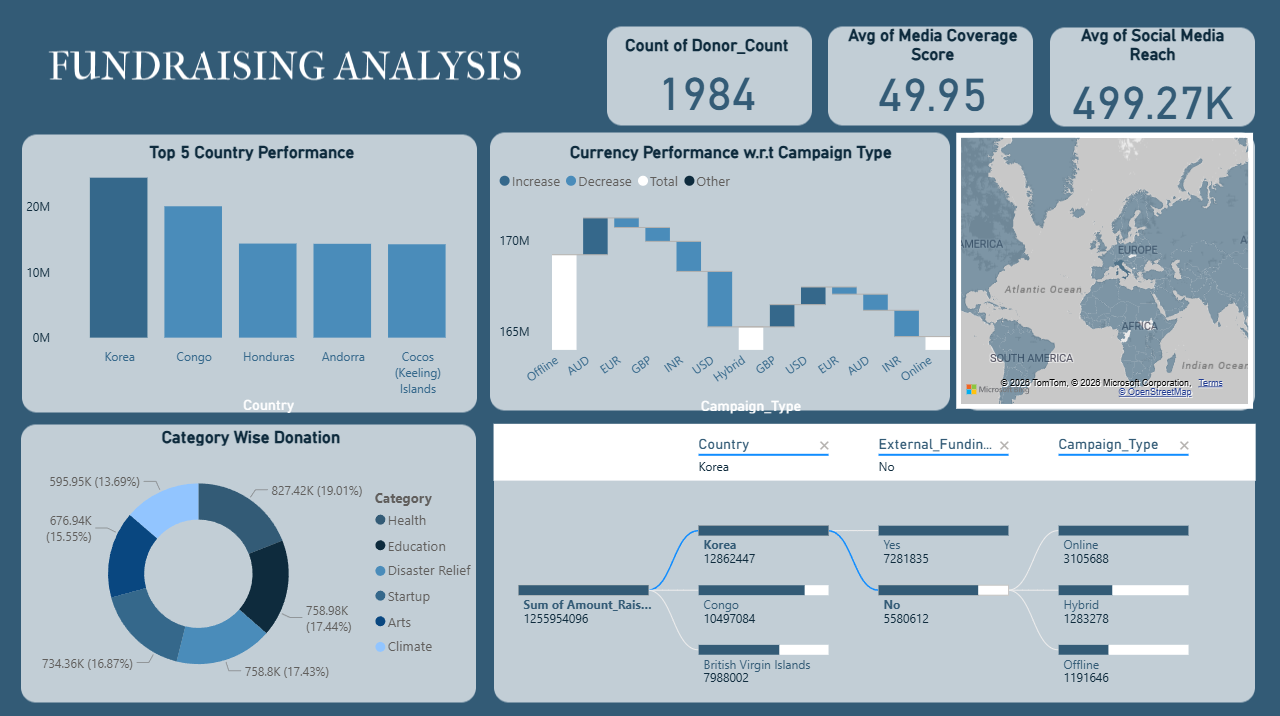

This screenshot's page, from the dashboard's own definition file:
{"tool":"powerbi","page":{"name":"FR DASHBOARD","canvas":[1280,720],"ordinal":0},"visuals":[{"type":"card","title":"Count of Donor_Count","fields":{"Values":["Count(Fund Raise Analysis.Donor_Count)"]},"box":[604.4,36.2,203.9,88.1],"z":0},{"type":"card","title":"Avg of Media Coverage Score","fields":{"Values":["Avg(Fund Raise Analysis.Media_Coverage_Score)"]},"box":[829.5,26.5,205.7,91.4],"z":1000},{"type":"card","title":"Avg of Social Media Reach","fields":{"Values":["Avg(Fund Raise Analysis.Social_Media_Reach)"]},"box":[1054.4,26.5,195.4,107.4],"z":2000},{"type":"filledMap","fields":{"Category":["Fund Raise Analysis.Country"]},"box":[956.7,133.9,296.8,276.3],"z":3000},{"type":"columnChart","title":"Top 5 Country Performance","fields":{"Category":["Fund Raise Analysis.Country"],"Y":["Sum(Fund Raise Analysis.Fundraising_Goal_USD)"]},"box":[21.4,142.9,461.4,277.1],"z":4000},{"type":"donutChart","title":"Category Wise Donation","fields":{"Category":["Fund Raise Analysis.Category"],"Y":["Sum(Fund Raise Analysis.Average_Donation_USD)"]},"box":[17.1,427.1,467.1,275.7],"z":5000},{"type":"waterfallChart","title":"Currency Performance w.r.t Campaign Type","fields":{"Category":["Fund Raise Analysis.Campaign_Type"],"Y":["Sum(Fund Raise Analysis.Marketing_Spend_USD)"],"Breakdown":["Fund Raise Analysis.Currency"]},"box":[494.3,142.9,474.3,277.1],"z":6000},{"type":"decompositionTreeVisual","fields":{"ExplainBy":["Fund Raise Analysis.Country","Fund Raise Analysis.External_Funding_Received","Fund Raise Analysis.Campaign_Type"],"Analyze":["Sum(Fund Raise Analysis.Amount_Raised_USD)"]},"box":[488.6,419.8,772.1,283.5],"z":7000}]}

Visuals, with their boxes in screenshot pixels (x1, y1, x2, y2), scaled from the page's 1280x720 canvas onto the 1280x716 screenshot:
"Count of Donor_Count" card: BBox(604, 36, 808, 124)
"Avg of Media Coverage Score" card: BBox(830, 26, 1035, 117)
"Avg of Social Media Reach" card: BBox(1054, 26, 1250, 133)
filledMap - Fund Raise Analysis.Country: BBox(957, 133, 1254, 408)
"Top 5 Country Performance" columnChart: BBox(21, 142, 483, 418)
"Category Wise Donation" donutChart: BBox(17, 425, 484, 699)
"Currency Performance w.r.t Campaign Type" waterfallChart: BBox(494, 142, 969, 418)
decompositionTreeVisual - Fund Raise Analysis.Country x Fund Raise Analysis.External_Funding_Received: BBox(489, 417, 1261, 699)
